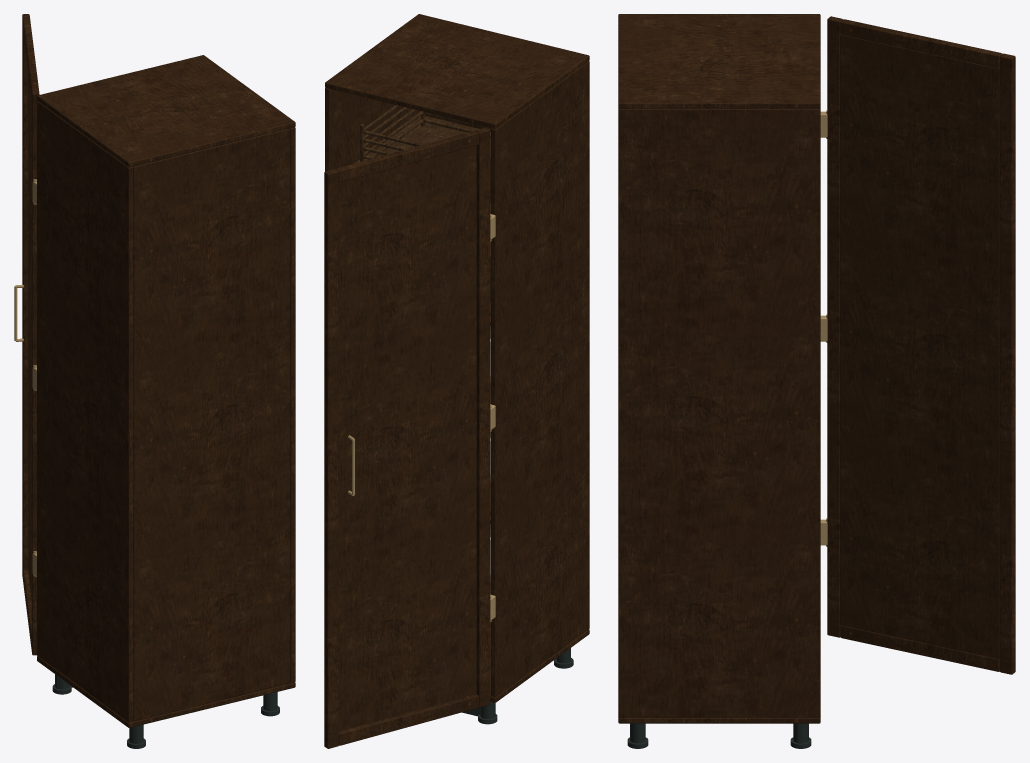
Rendered from cabinet-pantry.glb.
3 views of the same model, side by side, from view 1: azimuth 30°, elevation 25°; view 2: azimuth 150°, elevation 25°; view 3: azimuth 270°, elevation 25° (orthographic). The views are drawn at different scales.
Visible parts, largest first — view 1: walnut_surfaces, dark_surfaces, bronze_surfaces; view 2: walnut_surfaces, oak_surfaces, dark_surfaces, bronze_surfaces; view 3: walnut_surfaces, dark_surfaces, bronze_surfaces.
Boxes of the visible parts, bbox=[...] form: walnut_surfaces: bbox=[22, 14, 295, 727]; dark_surfaces: bbox=[52, 674, 279, 748]; bronze_surfaces: bbox=[14, 179, 36, 576]; walnut_surfaces: bbox=[324, 14, 589, 748]; oak_surfaces: bbox=[353, 105, 490, 594]; dark_surfaces: bbox=[462, 648, 573, 724]; bronze_surfaces: bbox=[348, 214, 495, 621]; walnut_surfaces: bbox=[618, 14, 1015, 723]; dark_surfaces: bbox=[627, 723, 811, 748]; bronze_surfaces: bbox=[820, 110, 827, 546].
Bounding box in the file's own units: 0.6499 × 2.2 × 1.22.
Materials: 7 (2 with a texture image).
